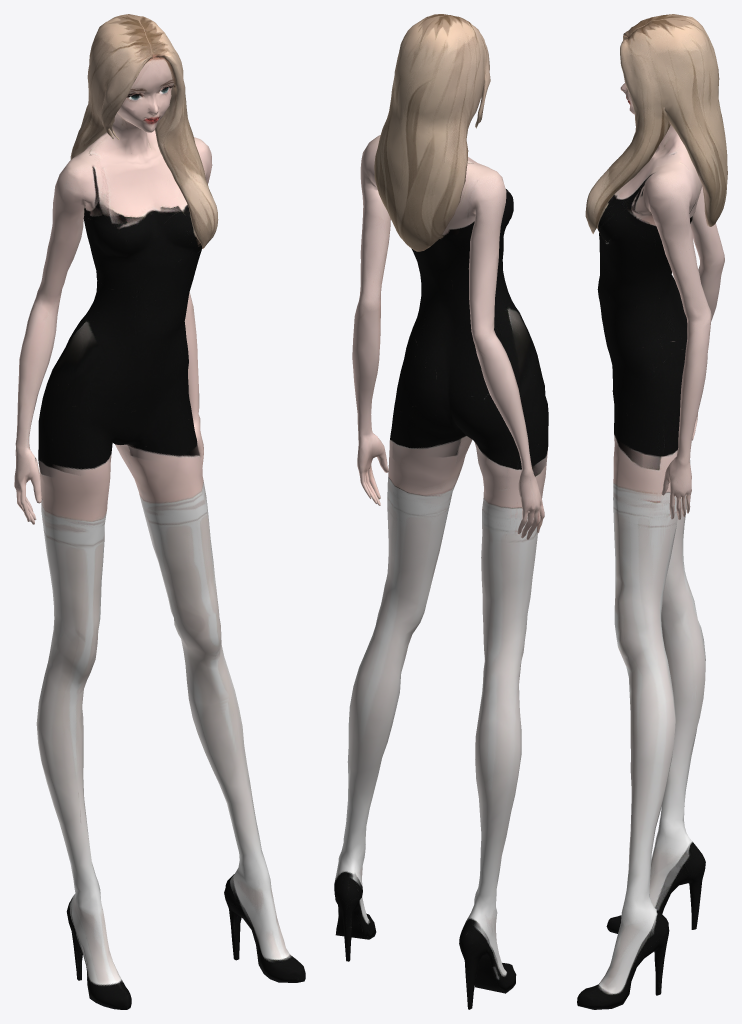
The model's file is woman-model.glb.
3 views of the same model, side by side, from view 1: azimuth 30°, elevation 25°; view 2: azimuth 150°, elevation 25°; view 3: azimuth 270°, elevation 25° (orthographic). The views are drawn at different scales.
Bounding box in the file's own units: 0.2632 × 1 × 0.1468.
Materials: 1 (1 with a texture image).
